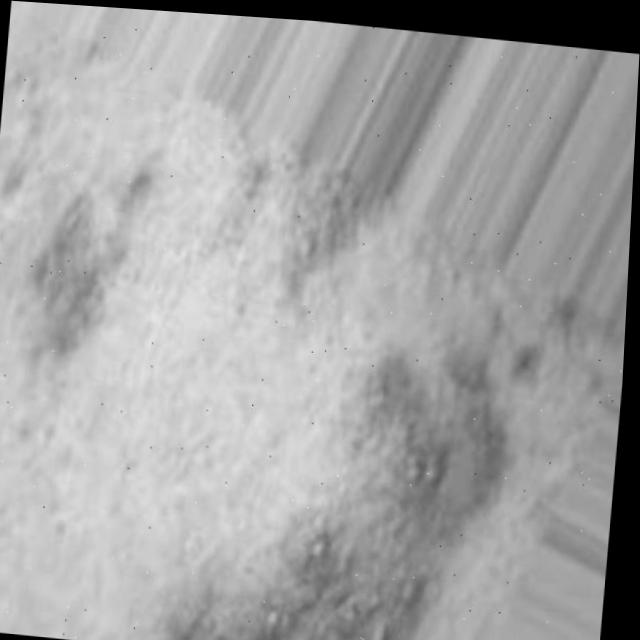Shingles: (191, 344, 554, 640), (22, 140, 373, 346)
